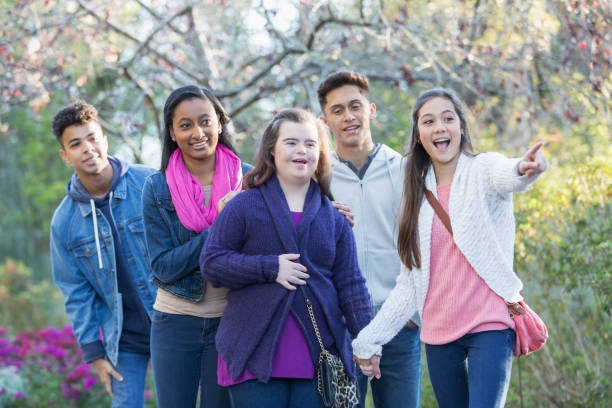face: (418, 105, 463, 163), (173, 103, 219, 158), (326, 91, 370, 147), (276, 124, 319, 177), (61, 124, 105, 175)
